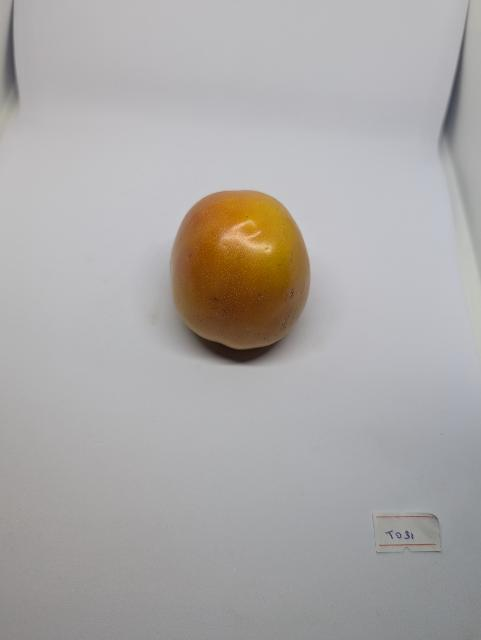turning: (158, 179, 315, 358)
